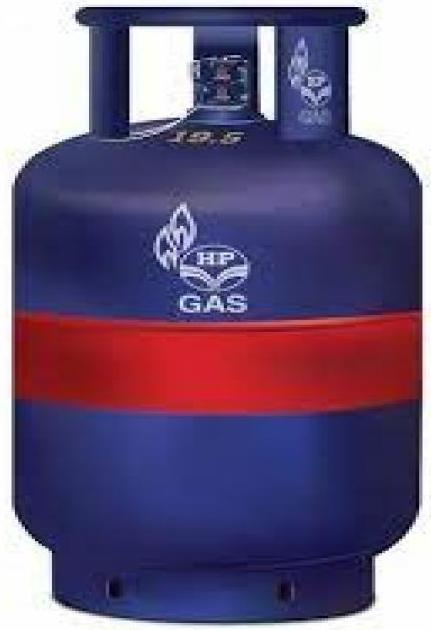cylinder: (1, 0, 431, 630)
